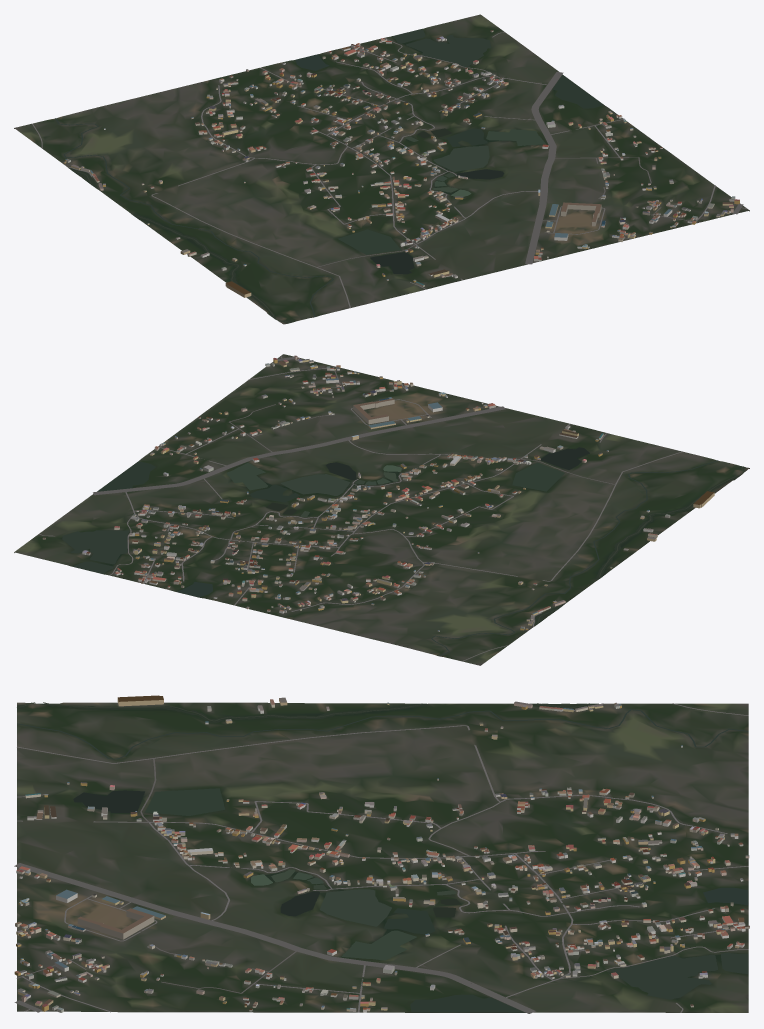
The picture shows the model from 3 angles, top to bottom: view 1: azimuth 30°, elevation 25°; view 2: azimuth 150°, elevation 25°; view 3: azimuth 270°, elevation 25°; orthographic projection. The views are drawn at different scales.
Parts seen in each view (by area): view 1: ground, buildings, water, roads; view 2: ground, buildings, water, roads; view 3: ground, buildings, water, roads.
Part boxes in pixels (<box>): ground: <box>14,14,749,324</box>; buildings: <box>63,30,739,297</box>; water: <box>55,29,603,323</box>; roads: <box>32,32,746,307</box>; ground: <box>14,354,749,665</box>; buildings: <box>42,355,714,631</box>; water: <box>62,447,745,656</box>; roads: <box>39,356,682,661</box>; ground: <box>17,702,748,1012</box>; buildings: <box>14,695,749,1012</box>; water: <box>17,702,748,1012</box>; roads: <box>14,703,748,1013</box>.
Size of the model in its own units: 1421 by 19.09 by 1410.
